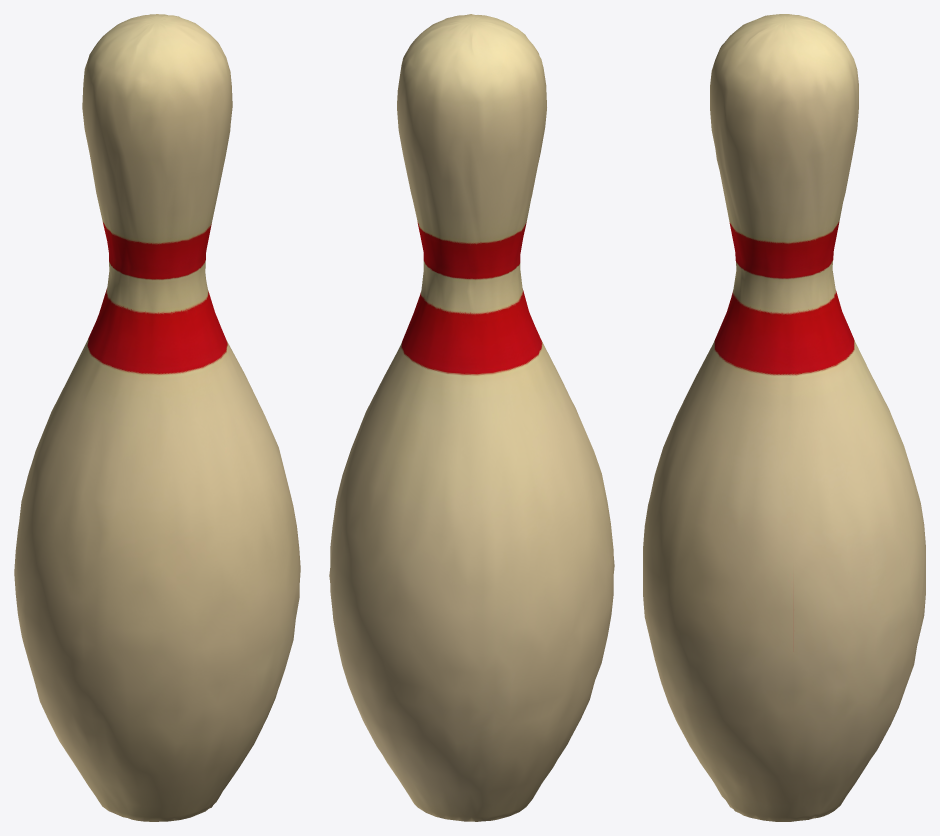
Rendered from bowling-pin.glb.
3 renders of one model, left to right at view 1: azimuth 30°, elevation 25°; view 2: azimuth 150°, elevation 25°; view 3: azimuth 270°, elevation 25°, orthographic.
Parts seen in each view (by area): view 1: pin; view 2: pin; view 3: pin.
Part boxes in pixels (<box>): pin: <box>14,14,300,821</box>; pin: <box>329,14,614,821</box>; pin: <box>643,14,925,821</box>.
Bounding box in the file's own units: 0.3301 × 0.998 × 0.3301.
1 material, 1 textured.
